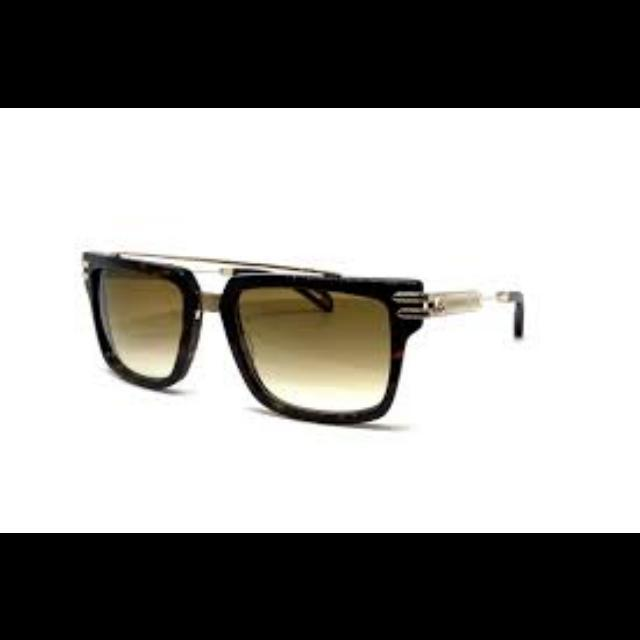sunglasses: (81, 250, 527, 426)
